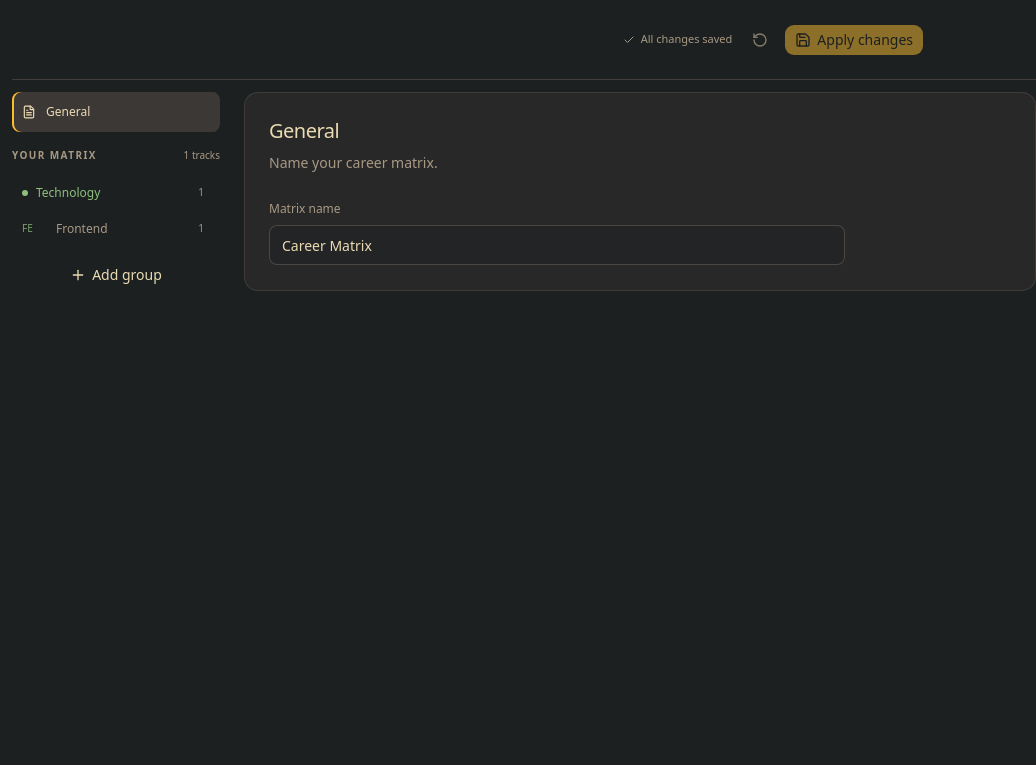
Test case: <DocumentForm /> › preserves general and track edits when switching sections
Replace the text in the field labelled "Matrix name" with "My career" at (557,245), box x1=269 y1=225 x2=845 y2=265
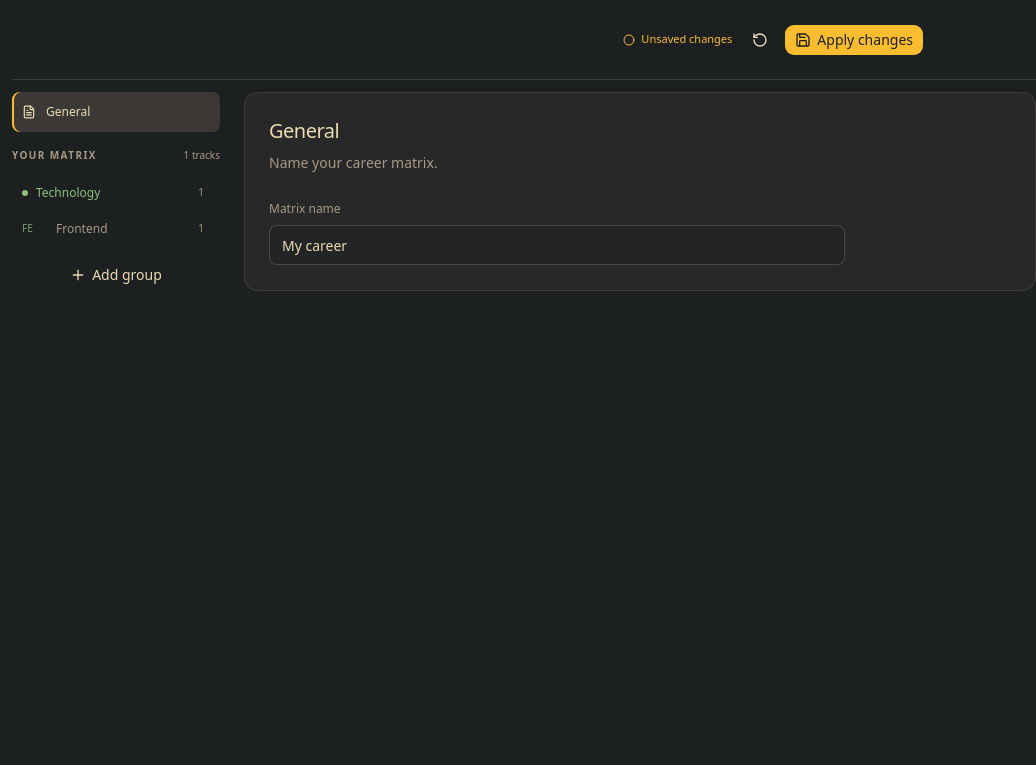
Click the button "FE Frontend 1" at (113,229), box x1=14 y1=213 x2=212 y2=245
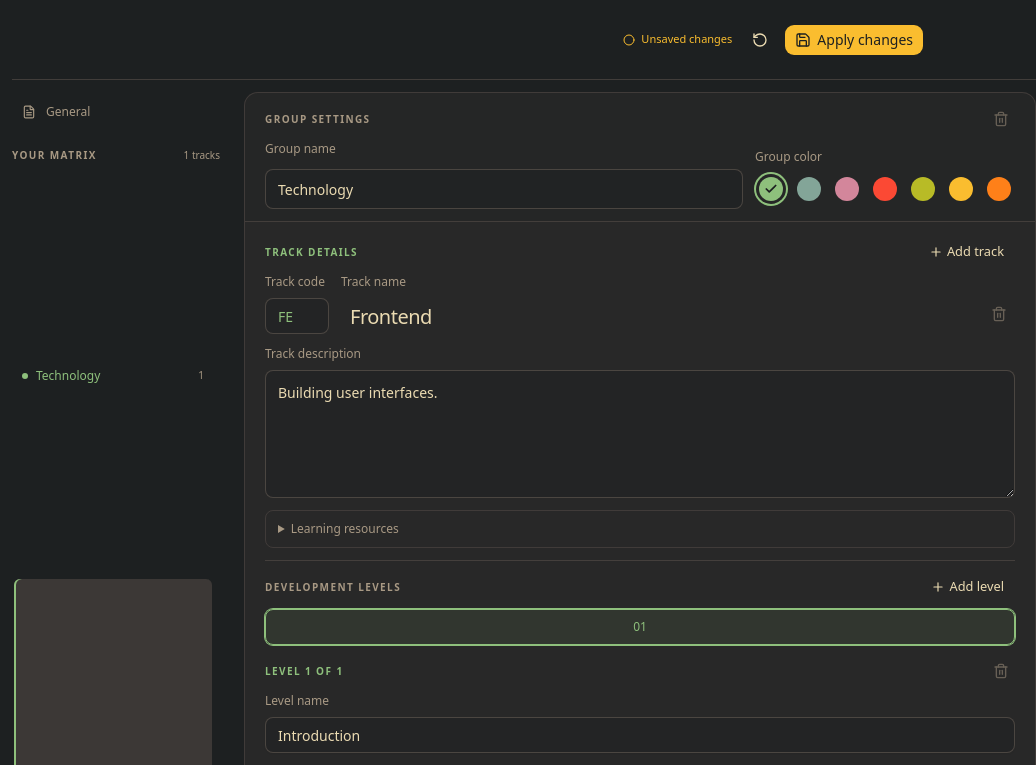
Expected: the label "Matrix name" is gone
Replace the text in the field labelled "Track name" with "Interface engineering" at (656,316), box x1=341 y1=298 x2=971 y2=334
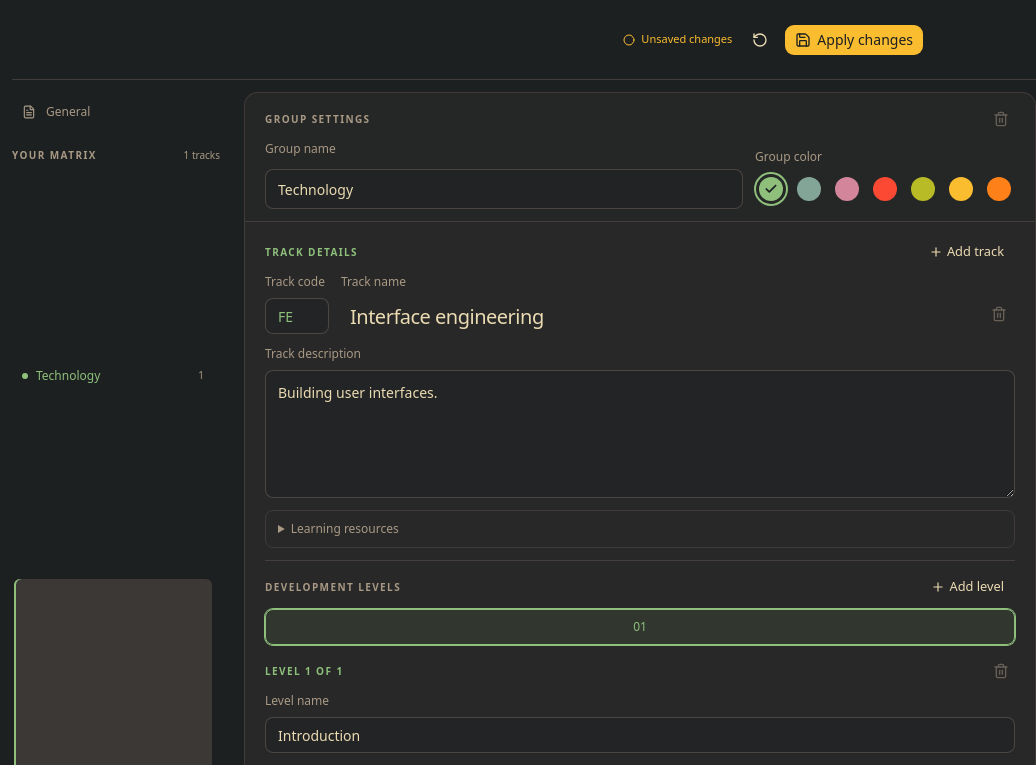
Click the button "General" at (116,112), box x1=12 y1=92 x2=220 y2=132
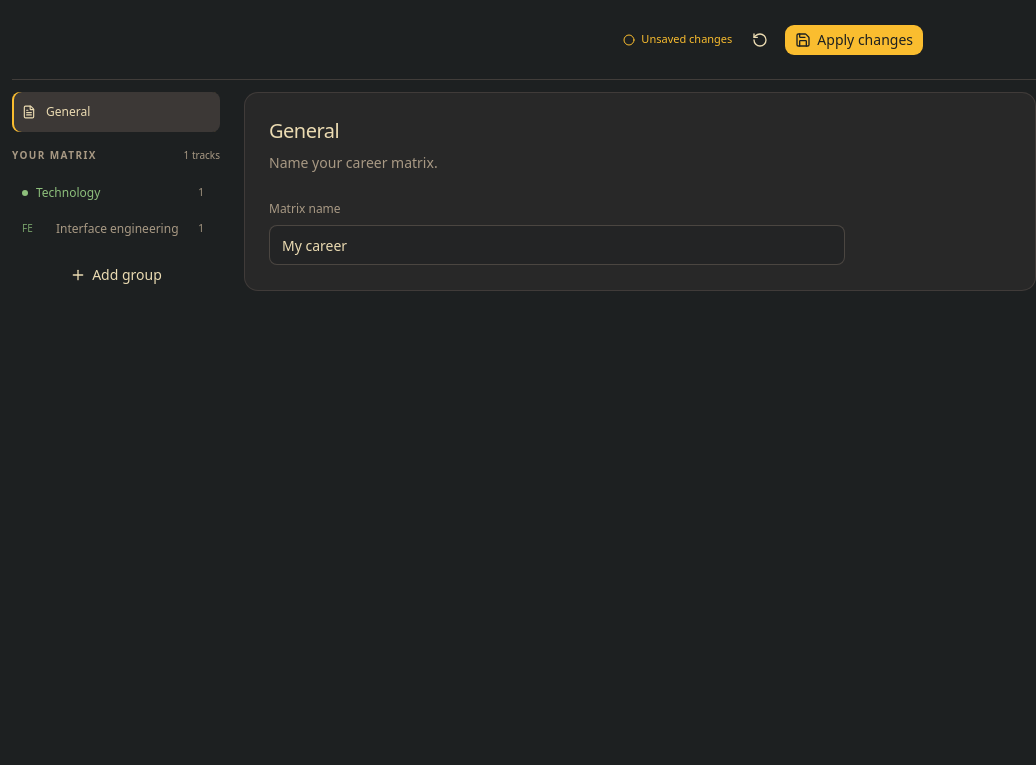
Expected: the field labelled "Matrix name" holds "My career", x1=269 y1=225 x2=845 y2=265
Expected: the label "Track name" is gone
Click the button "Apply changes" at (854,40), box x1=784 y1=24 x2=924 y2=56
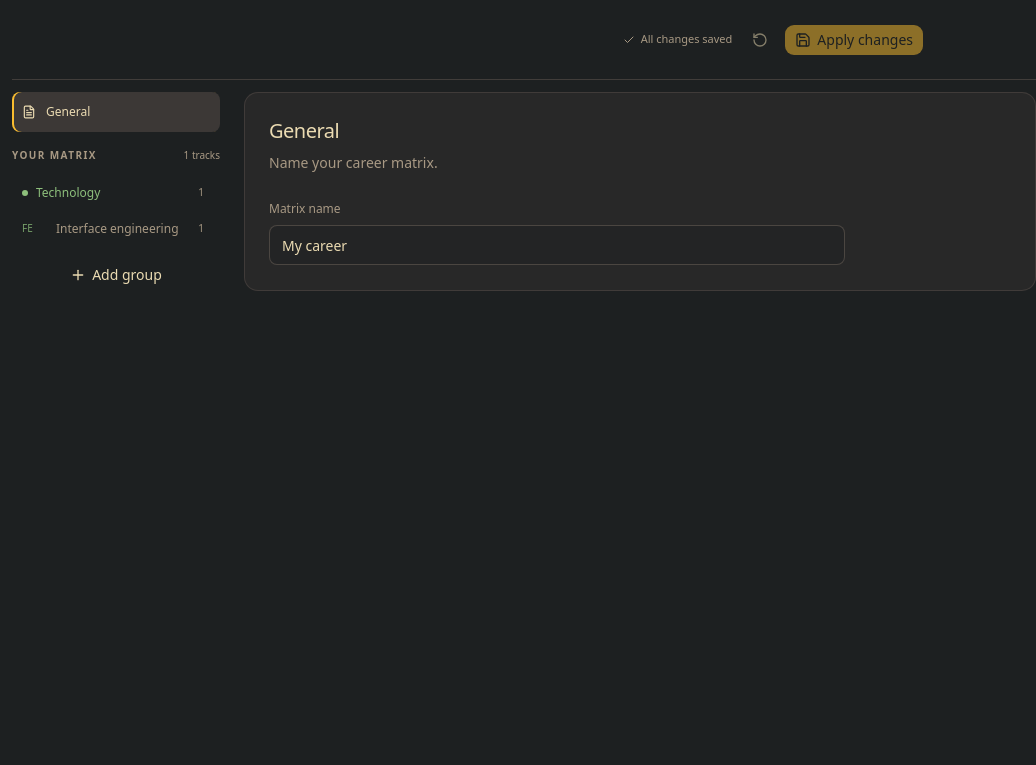
Expected: the text "Interface engineering" is shown, x1=56 y1=221 x2=188 y2=237
Click the button "FE Interface engineering 1" at (113,229), box x1=14 y1=213 x2=212 y2=245
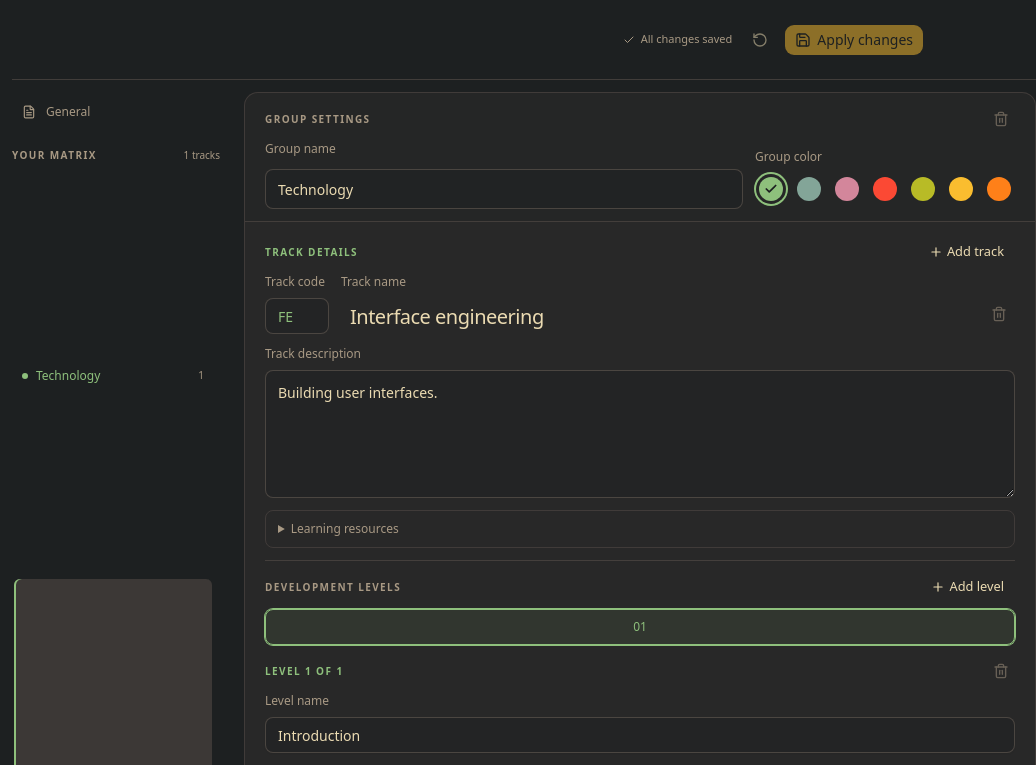
Expected: the field labelled "Track name" holds "Interface engineering", x1=341 y1=298 x2=971 y2=334
